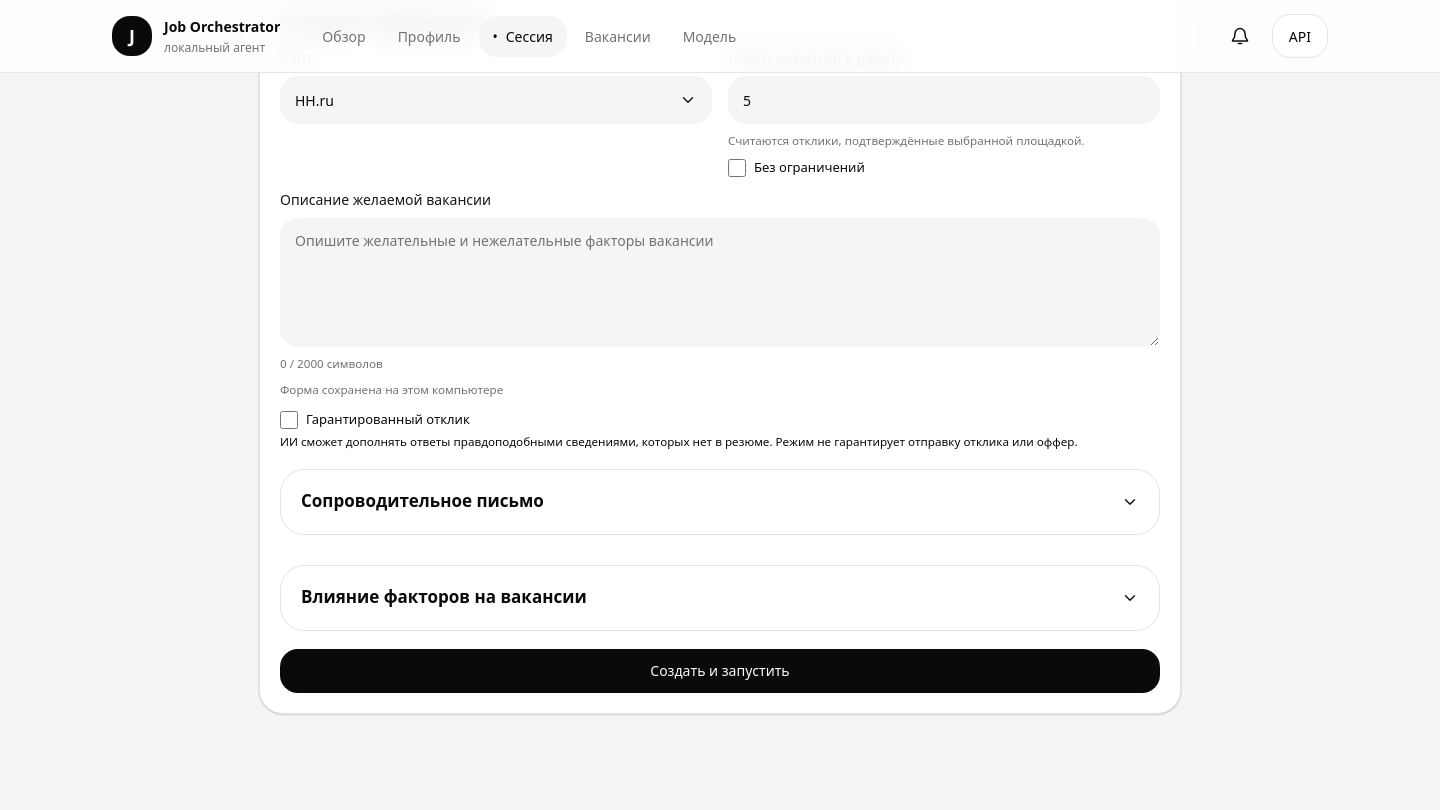
keeps the saved source visible when auto-start creation fails
(page scrolled)
Click the button "Создать и запустить" at (720,671), box x1=280 y1=649 x2=1160 y2=693
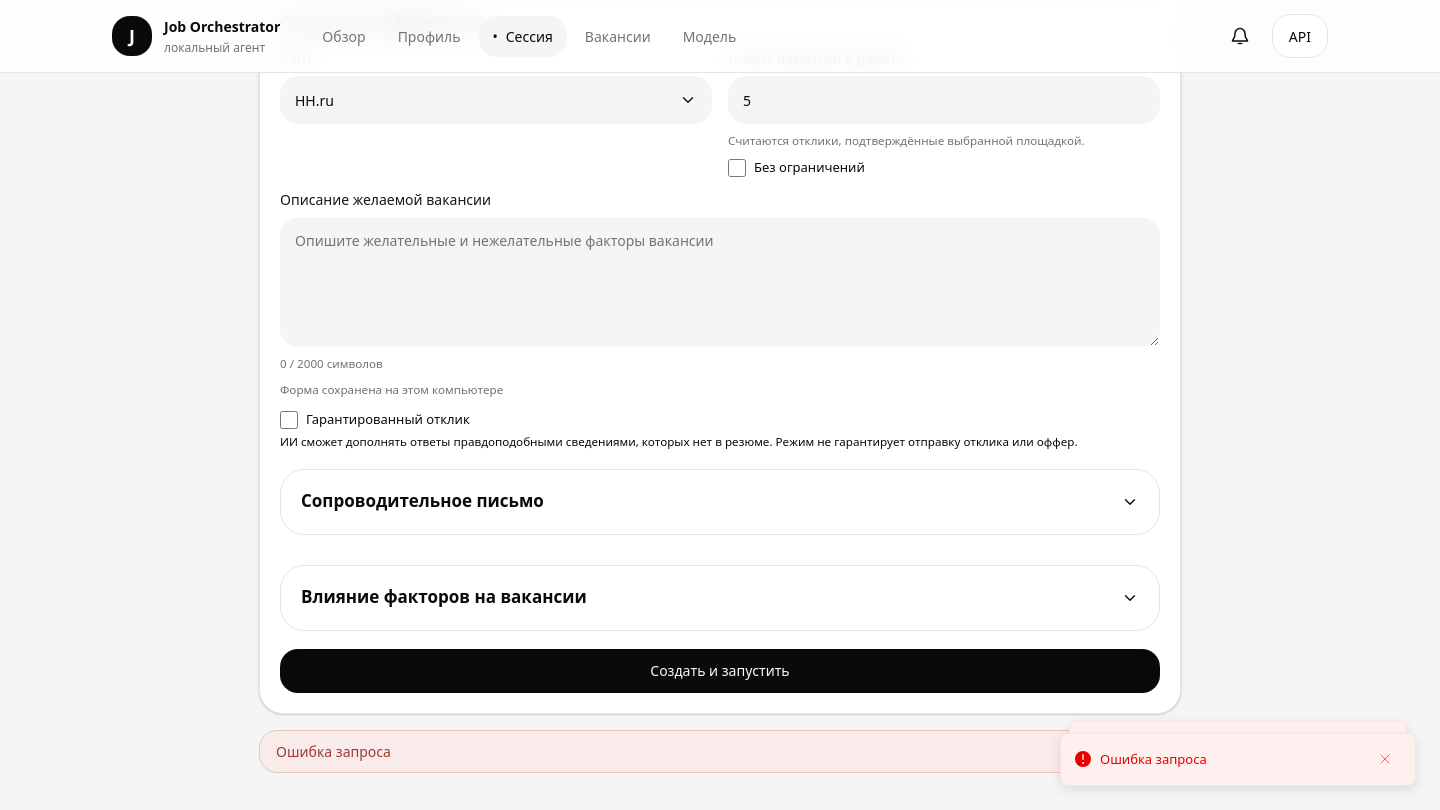
Check: the message "Ошибка запроса" is shown, box x1=259 y1=730 x2=1181 y2=773
